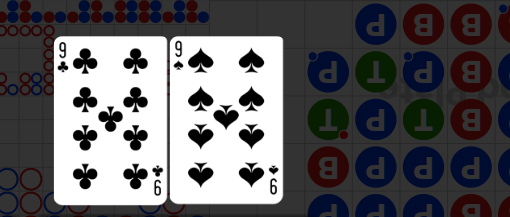9C: (57, 41, 71, 75)
9S: (267, 163, 280, 196)
